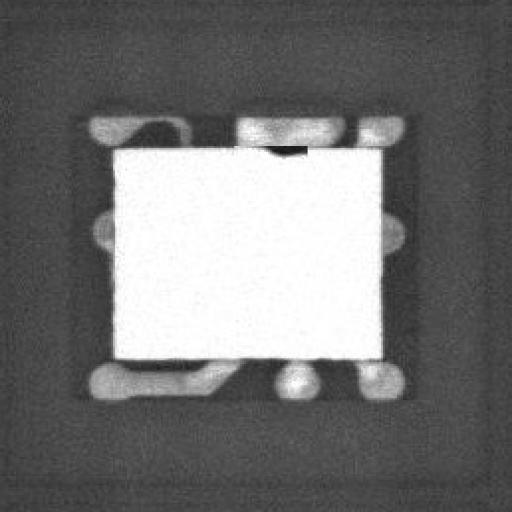DIE_BROKEN: (256, 138, 308, 158)
